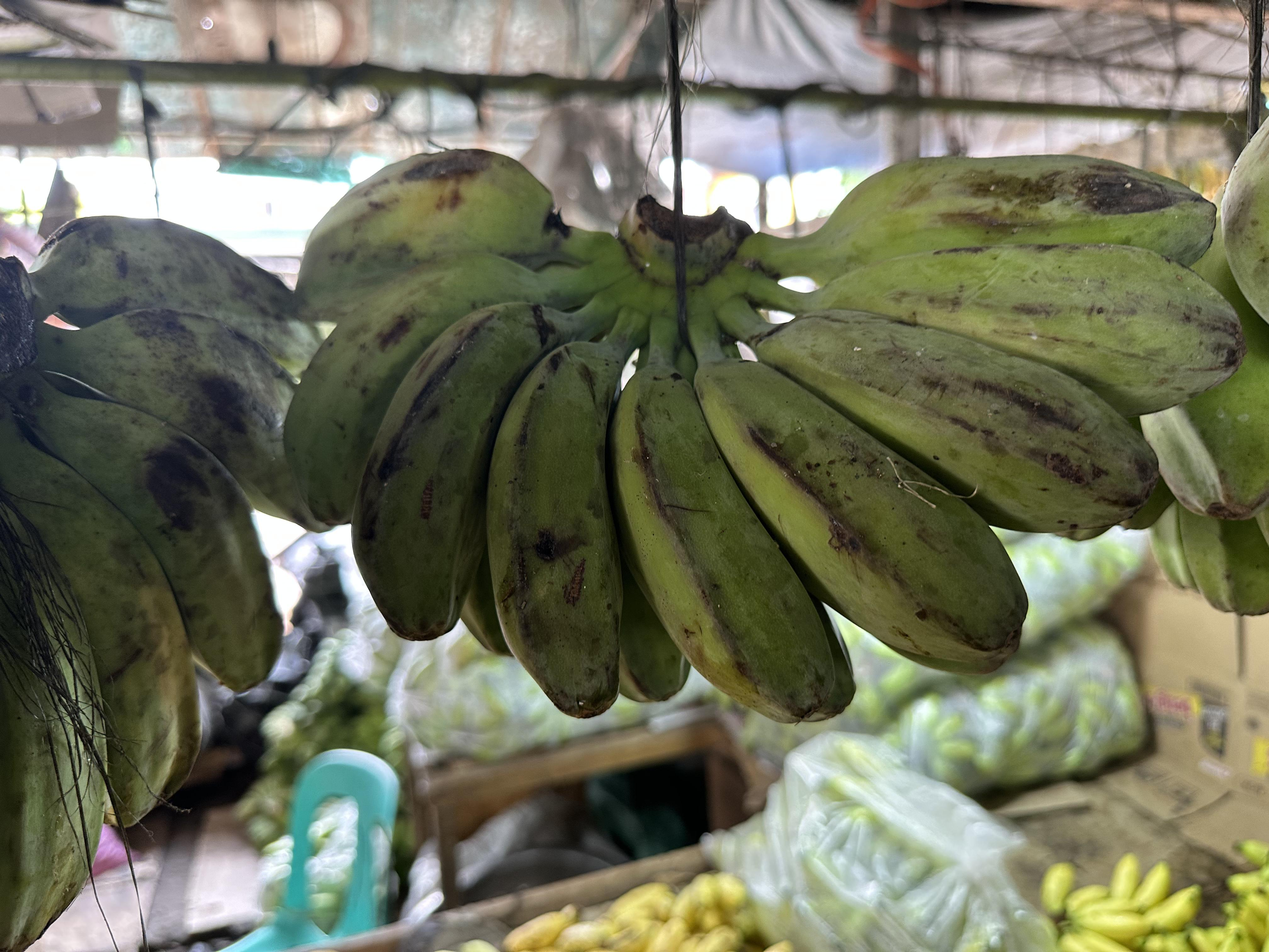underripe: (282, 151, 1248, 722), (5, 213, 332, 796), (1141, 120, 1269, 615)
